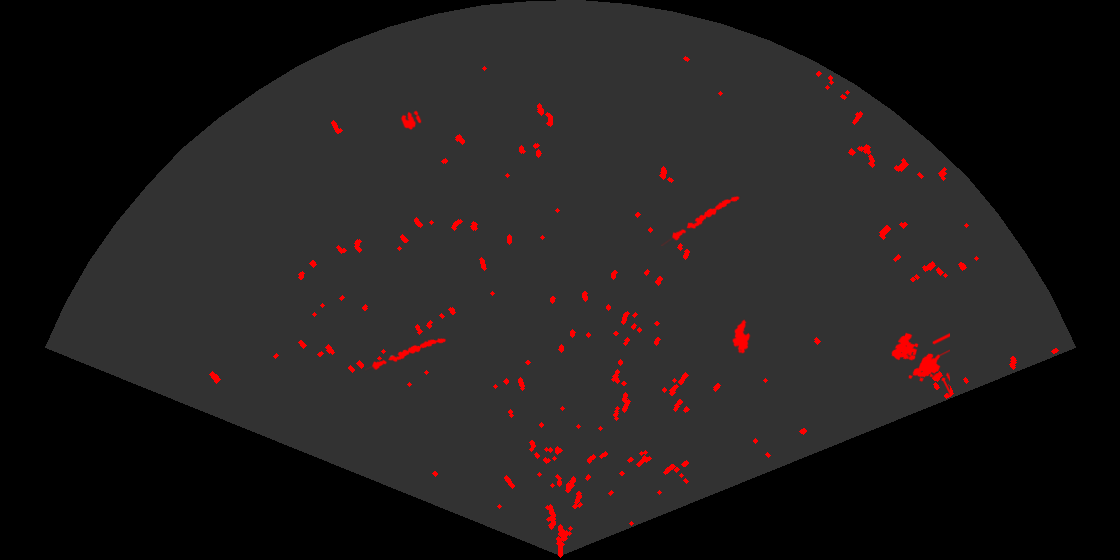AUV: (731, 318, 752, 355)
ball: (399, 109, 423, 131)
cage: (890, 331, 950, 396)
chain: (661, 194, 741, 246), (365, 337, 448, 372)
